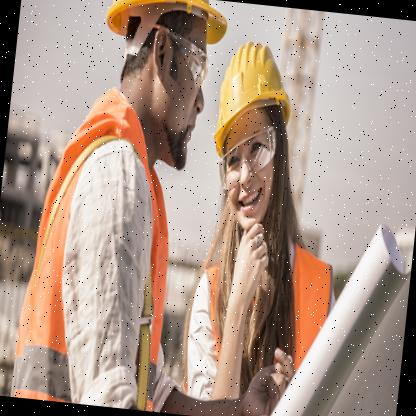oculos: (216, 118, 277, 196), (166, 26, 212, 90)
